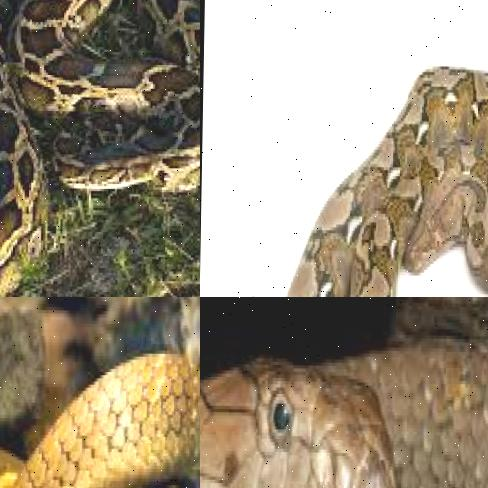snake: (0, 0, 200, 297), (247, 56, 488, 297), (200, 339, 488, 488), (0, 340, 200, 488)
